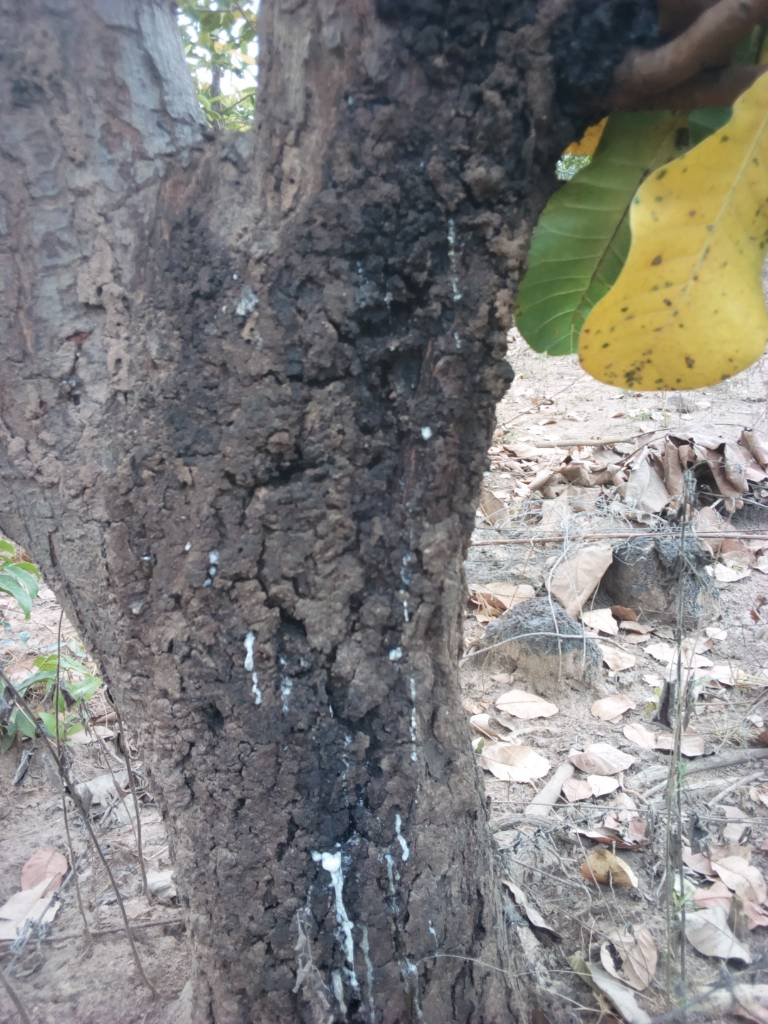Termites: (125, 224, 479, 1024)
